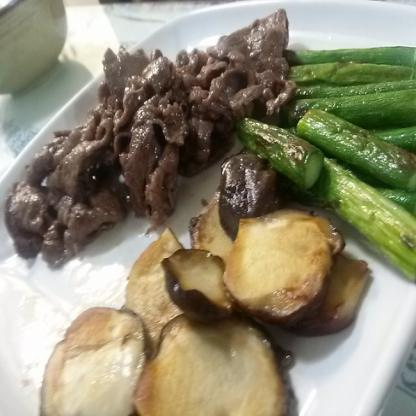Carne: (110, 93, 192, 176), (140, 112, 204, 205), (215, 11, 285, 94), (55, 128, 119, 189), (151, 84, 225, 136), (112, 68, 170, 126), (64, 192, 132, 240), (190, 50, 262, 94), (14, 180, 64, 241)
